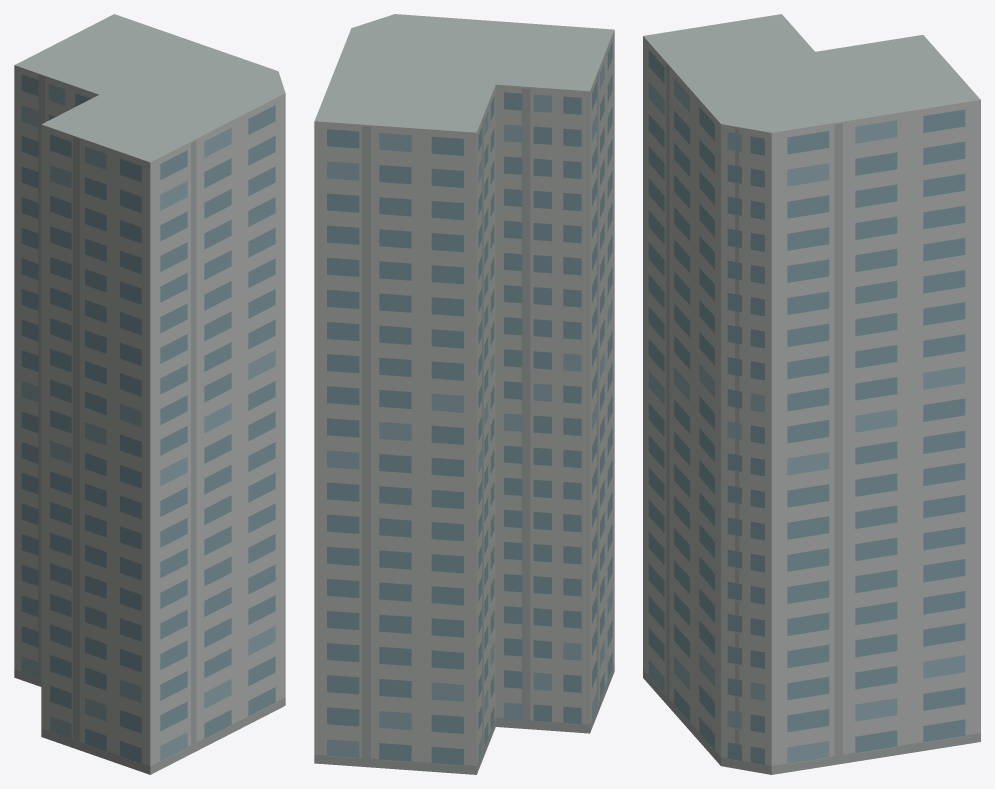
The model's file is residential-11fefc89-d28d-4b94-9b30-a8ba15fe63f8.glb.
The picture shows the model from 3 angles, left to right: view 1: azimuth 30°, elevation 25°; view 2: azimuth 150°, elevation 25°; view 3: azimuth 270°, elevation 25°; orthographic projection. The views are drawn at different scales.
Visible parts, largest first — view 1: residential-11fefc89-d28d-4b94-9b30-a8ba15fe63f8.tmp; view 2: residential-11fefc89-d28d-4b94-9b30-a8ba15fe63f8.tmp; view 3: residential-11fefc89-d28d-4b94-9b30-a8ba15fe63f8.tmp.
Boxes of the visible parts, left/top/right/bottom form: residential-11fefc89-d28d-4b94-9b30-a8ba15fe63f8.tmp: left=14, top=14, right=285, bottom=774; residential-11fefc89-d28d-4b94-9b30-a8ba15fe63f8.tmp: left=314, top=14, right=614, bottom=774; residential-11fefc89-d28d-4b94-9b30-a8ba15fe63f8.tmp: left=643, top=14, right=980, bottom=774.
Size of the model in its own units: 36.94 by 93 by 44.35.
